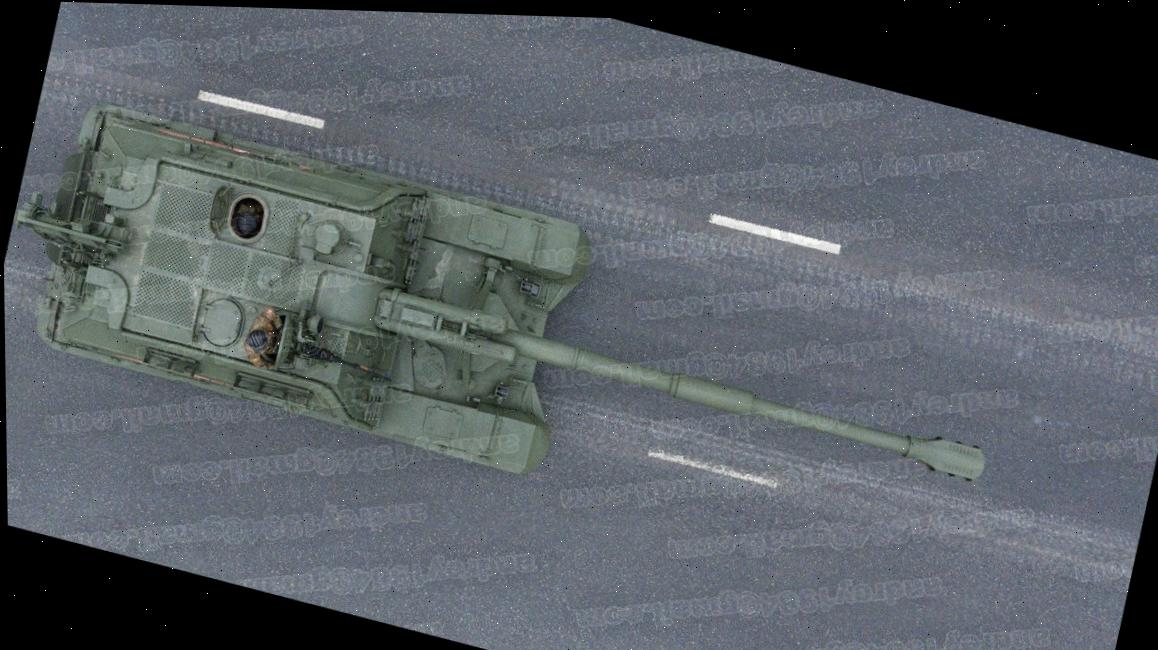tank: (1, 73, 1025, 608)
